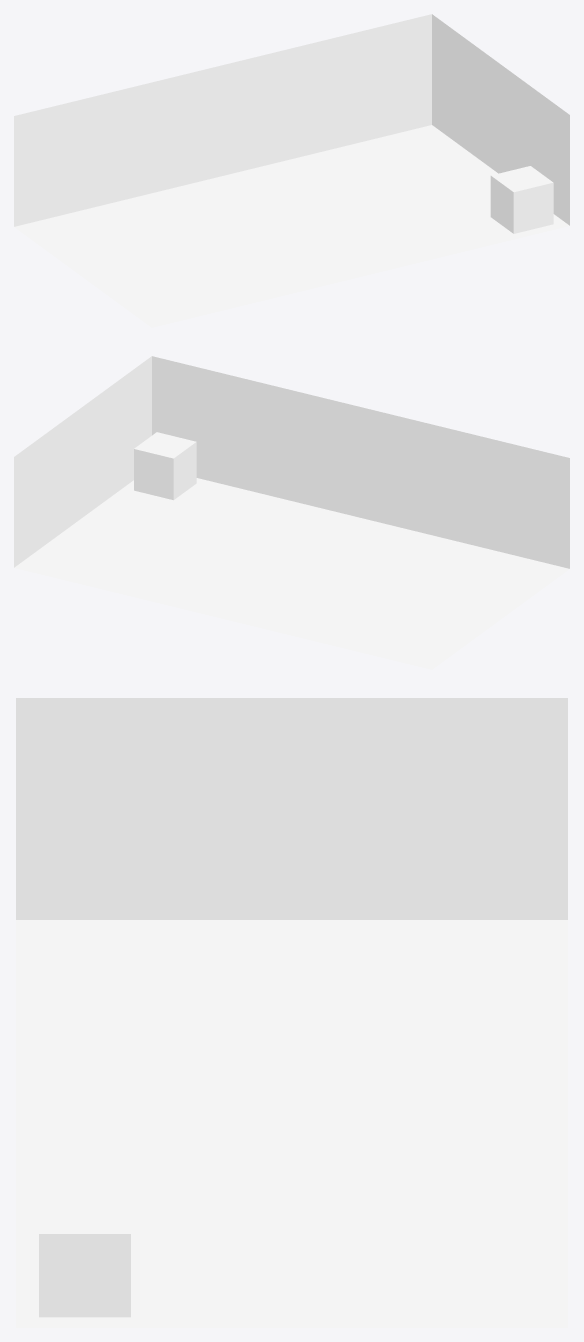
Rendered from test-world.glb.
3 views of the same model, one above another, from view 1: azimuth 30°, elevation 25°; view 2: azimuth 150°, elevation 25°; view 3: azimuth 270°, elevation 25° (orthographic). The views are drawn at different scales.
Parts seen in each view (by area): view 1: warehouse, crate; view 2: warehouse, crate; view 3: warehouse, crate.
Boxes of the visible parts, x1,y1,x2,y2 form: warehouse: (14, 14, 569, 327); crate: (490, 166, 553, 233); warehouse: (14, 356, 569, 669); crate: (134, 432, 196, 500); warehouse: (16, 698, 567, 1327); crate: (39, 1195, 130, 1317).
Size of what is drawn, in the model's own units: 21 by 5.32 by 12.
2 materials, 2 textured.
